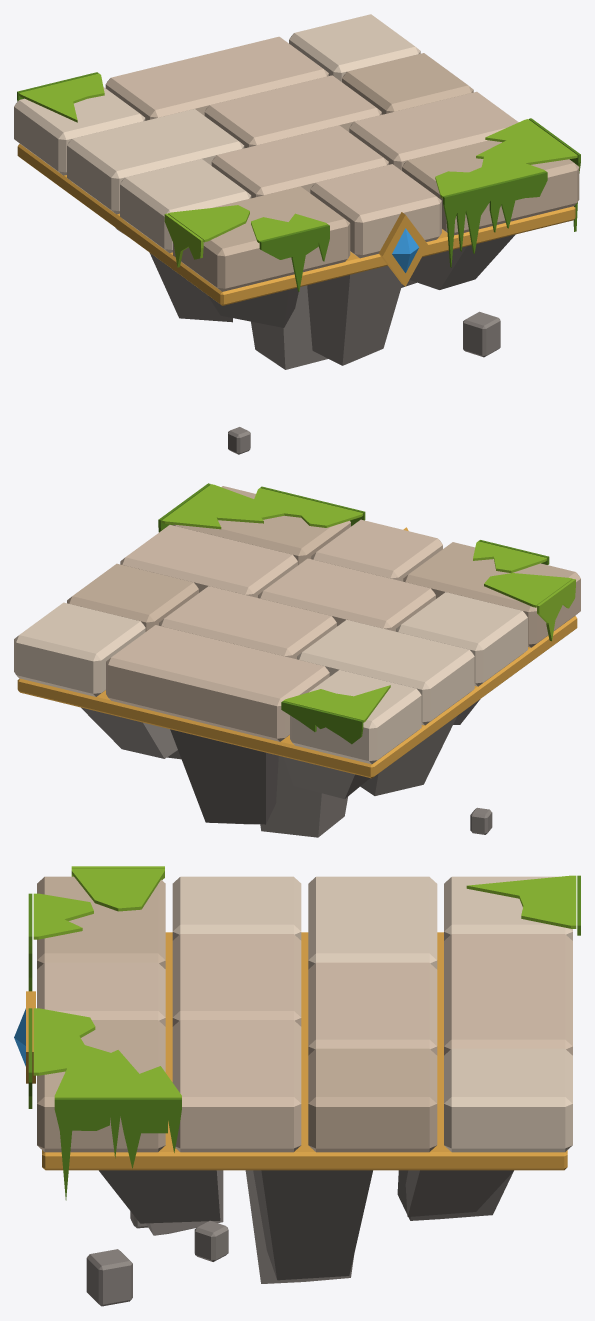
File: Plataforma_Pequena.fbx
3 views of the same model, one above another, from view 1: azimuth 30°, elevation 25°; view 2: azimuth 150°, elevation 25°; view 3: azimuth 270°, elevation 25° (orthographic). The views are drawn at different scales.
Visible parts, largest first — view 1: Plataforma_Pequena; view 2: Plataforma_Pequena; view 3: Plataforma_Pequena.
Part boxes in pixels (x1=…): Plataforma_Pequena: x1=14, y1=14, x2=580, y2=454; Plataforma_Pequena: x1=14, y1=483, x2=580, y2=837; Plataforma_Pequena: x1=14, y1=866, x2=580, y2=1306.
Bounding box in the file's own units: 3.26 × 2.06 × 3.34.
